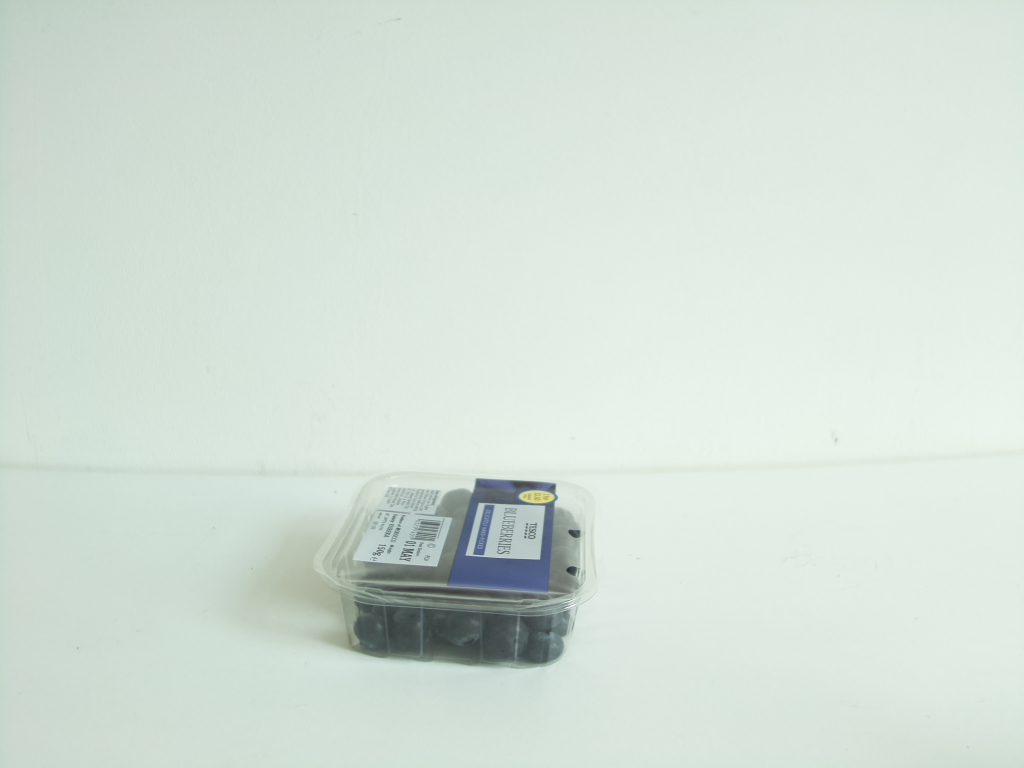soft-fruit: (315, 470, 591, 670)
